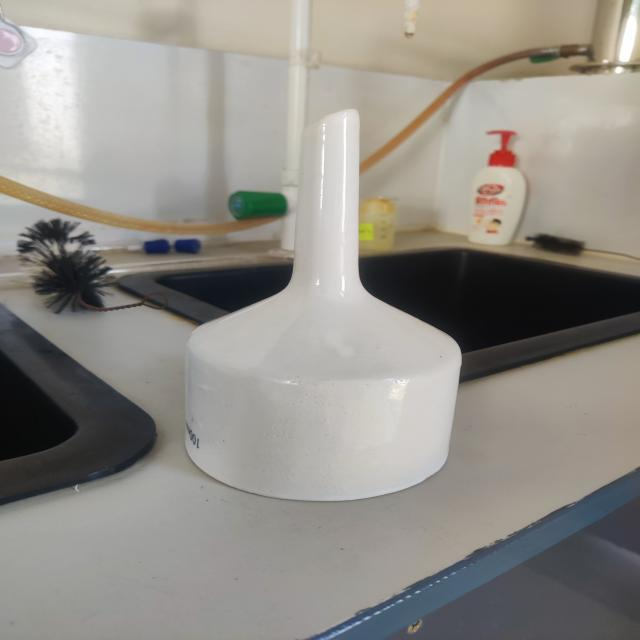Buchner_Funnel: (139, 96, 524, 534)
